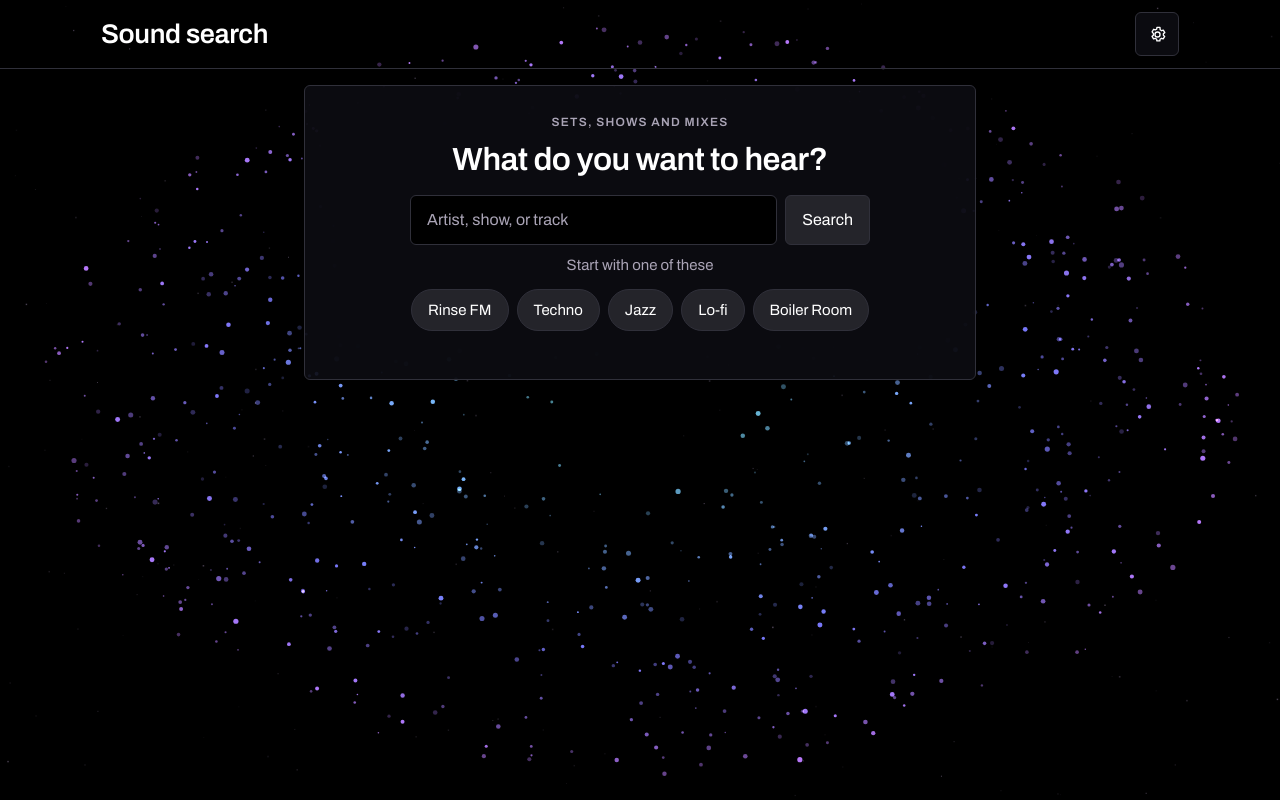
Scenario: App › brings the results back when a recent term is picked
Type "adele" into the search field named "search tracks". click: (594, 220)
box: top-left (410, 195), bottom-right (777, 245)
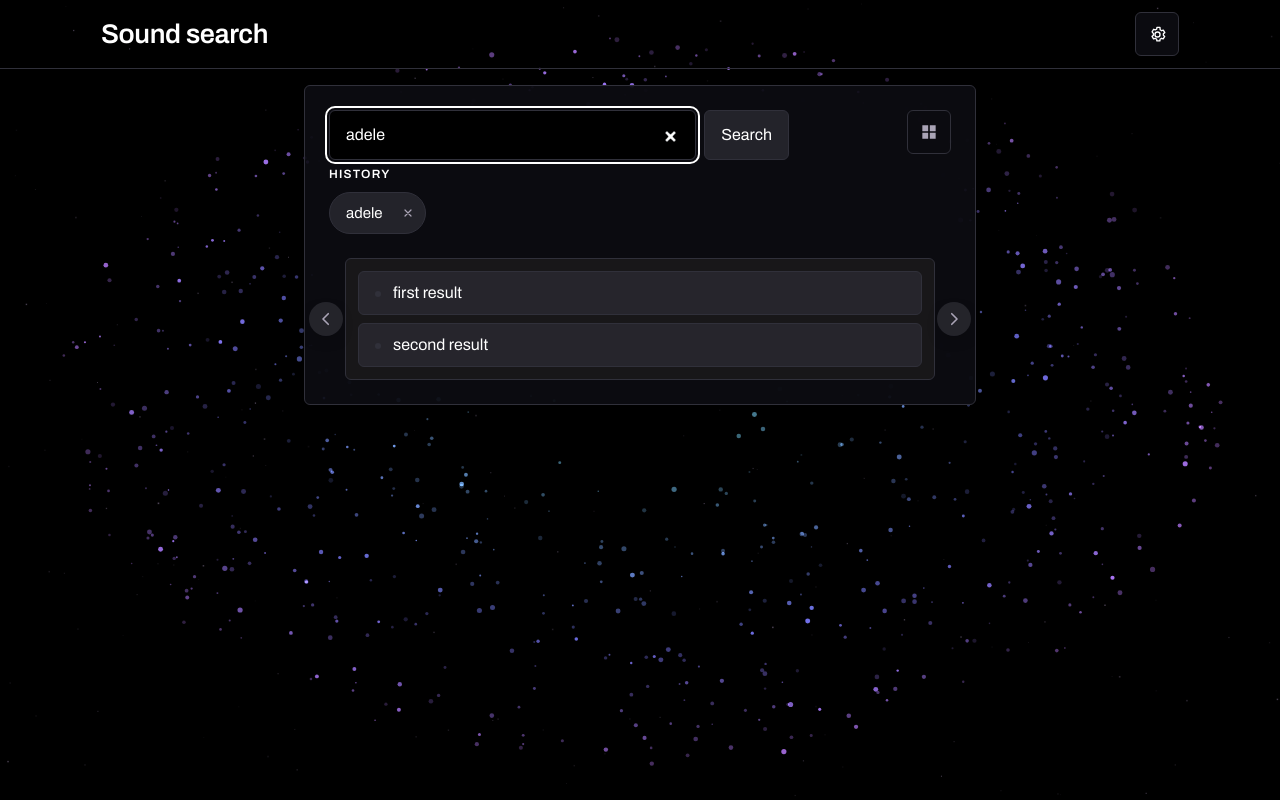
Click the button "first result". click: click(428, 292)
box: top-left (358, 271), bottom-right (922, 315)
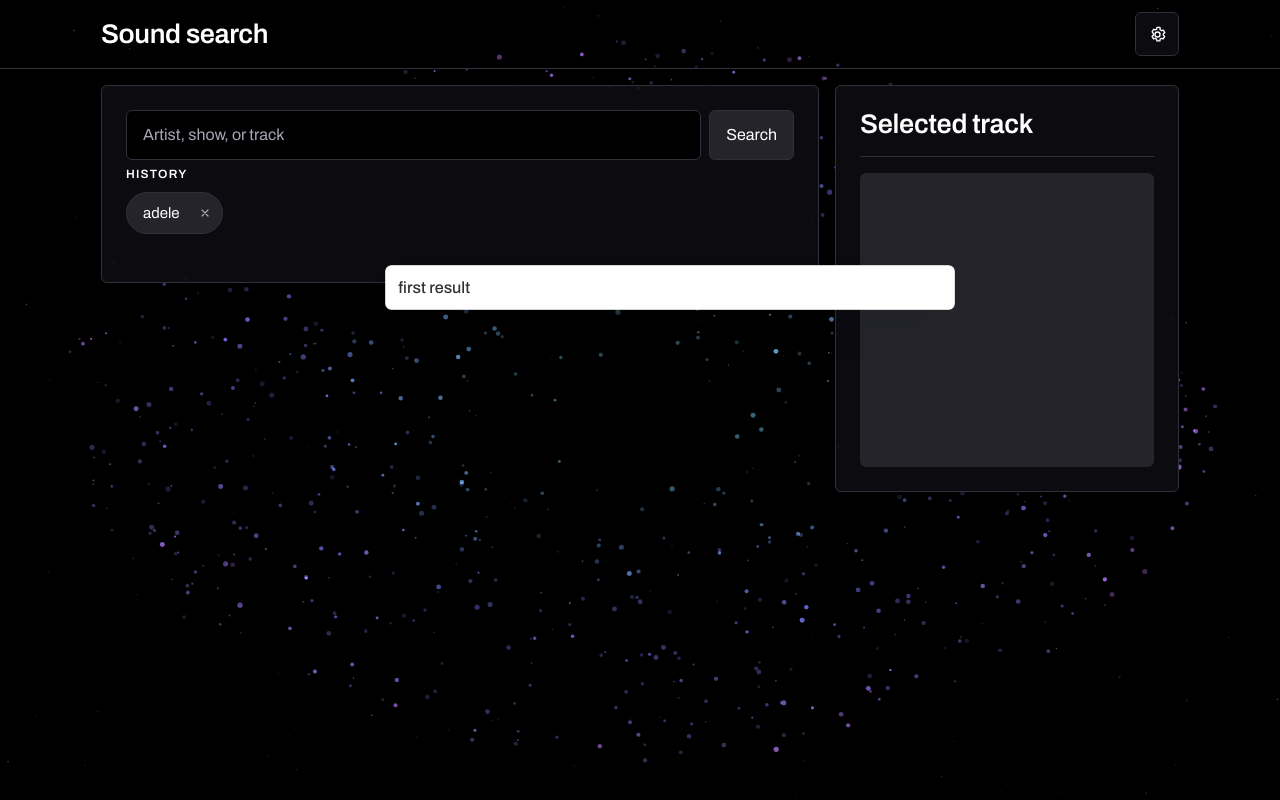
Click the button "adele". click: click(157, 213)
box: top-left (127, 193), bottom-right (188, 233)
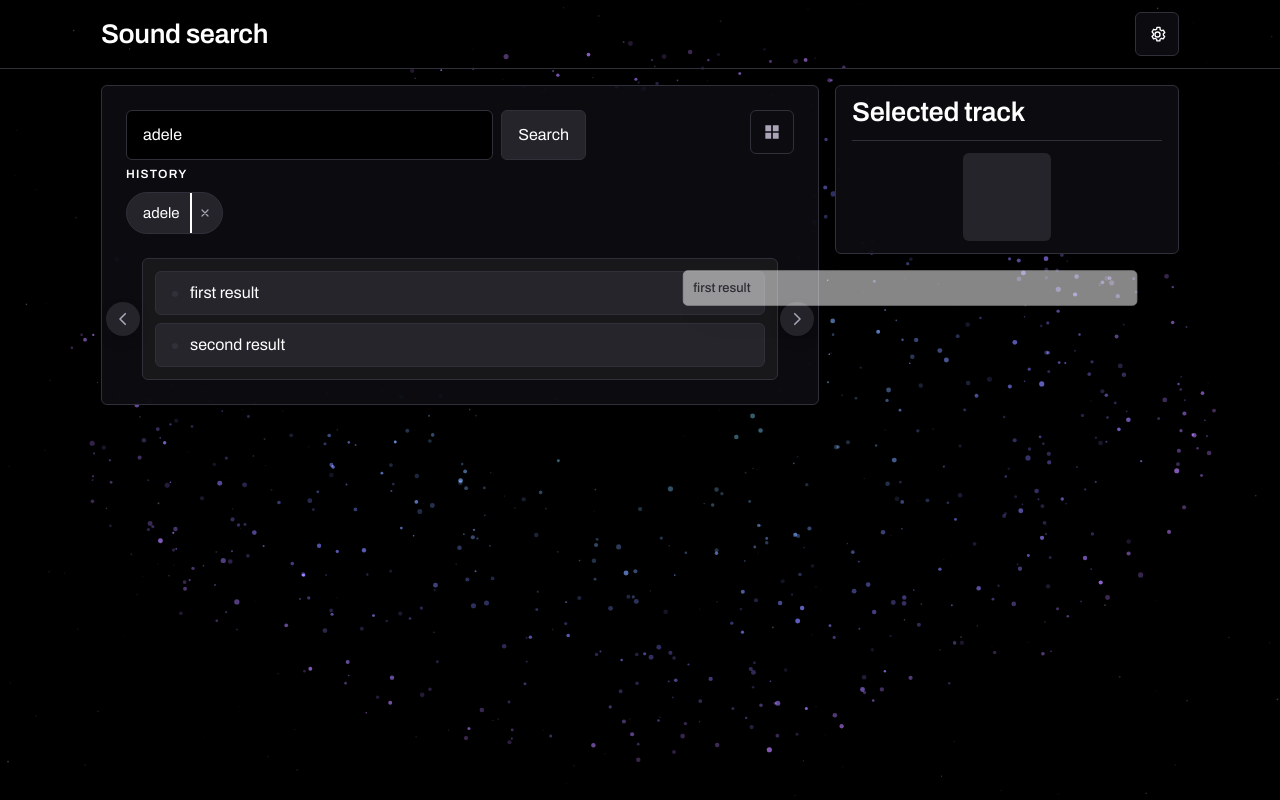
Expected: the element named "Result pages" is shown, top-left (143, 259), bottom-right (777, 379)
